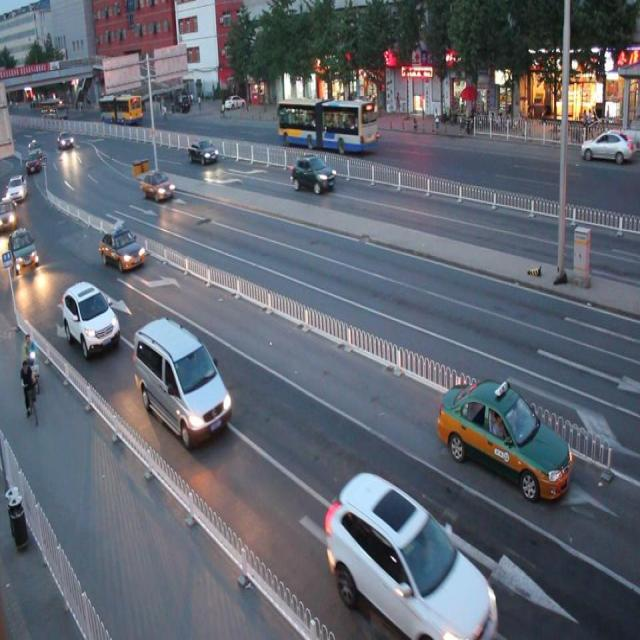car: (324, 471, 496, 640), (437, 374, 572, 496), (132, 317, 229, 445), (61, 282, 120, 356), (100, 225, 143, 270), (289, 152, 335, 194), (141, 169, 174, 202), (190, 140, 217, 165)
van: (277, 98, 377, 150)
